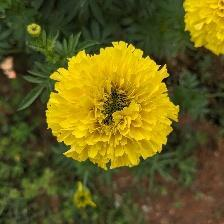marigold: (45, 40, 184, 175)
